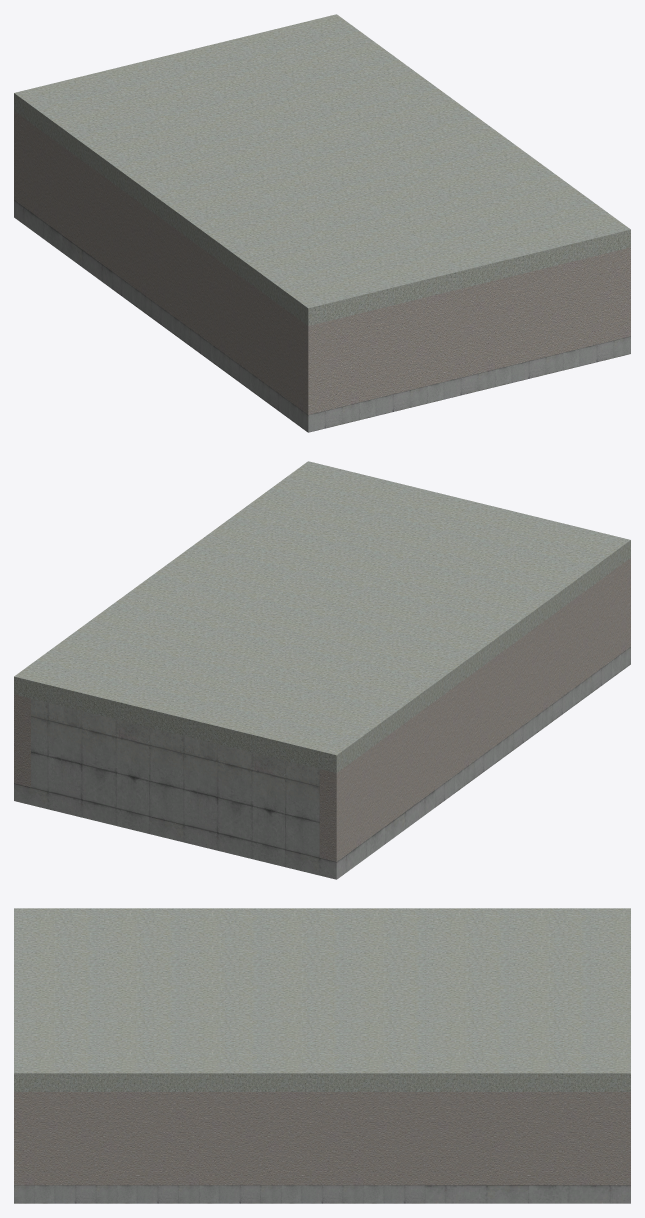
The model's file is Boxes.obj.
3 renders of one model, top to bottom at view 1: azimuth 30°, elevation 25°; view 2: azimuth 150°, elevation 25°; view 3: azimuth 270°, elevation 25°, orthographic. The views are drawn at different scales.
Parts seen in each view (by area): view 1: entity0_brush7, entity0_brush15, entity0_brush5, entity0_brush4, entity0_brush0, entity0_brush14, entity0_brush12, entity0_brush1; view 2: entity0_brush7, entity0_brush15, entity0_brush16, entity0_brush4, entity0_brush14, entity0_brush12, entity0_brush0, entity0_brush13, entity0_brush1; view 3: entity0_brush7, entity0_brush15, entity0_brush6, entity0_brush13, entity0_brush0, entity0_brush12, entity0_brush5, entity0_brush2, entity0_brush3.
Boxes of the visible parts, box(x1,y1,x2,y2) form: entity0_brush7: box(112, 86, 630, 325); entity0_brush15: box(14, 14, 434, 181); entity0_brush5: box(325, 247, 630, 410); entity0_brush4: box(122, 190, 325, 414); entity0_brush0: box(112, 271, 630, 432); entity0_brush14: box(14, 111, 111, 270); entity0_brush12: box(14, 200, 111, 288); entity0_brush1: box(112, 200, 121, 278); entity0_brush7: box(112, 461, 630, 700); entity0_brush15: box(14, 605, 434, 772); entity0_brush16: box(31, 698, 319, 857); entity0_brush4: box(444, 558, 630, 782); entity0_brush14: box(319, 701, 434, 861); entity0_brush12: box(14, 783, 434, 879); entity0_brush0: box(435, 647, 630, 807); entity0_brush13: box(14, 694, 30, 787); entity0_brush1: box(435, 712, 444, 789); entity0_brush7: box(14, 908, 425, 1091); entity0_brush15: box(425, 908, 630, 1091); entity0_brush6: box(34, 1092, 404, 1185); entity0_brush13: box(425, 1092, 630, 1185); entity0_brush0: box(14, 1185, 425, 1203); entity0_brush12: box(425, 1185, 630, 1203); entity0_brush5: box(14, 1092, 34, 1185); entity0_brush2: box(404, 1110, 425, 1185); entity0_brush3: box(404, 1092, 425, 1110).
Bounding box in the file's own units: 608 × 224 × 960.
Materials: 3 (3 with a texture image).
